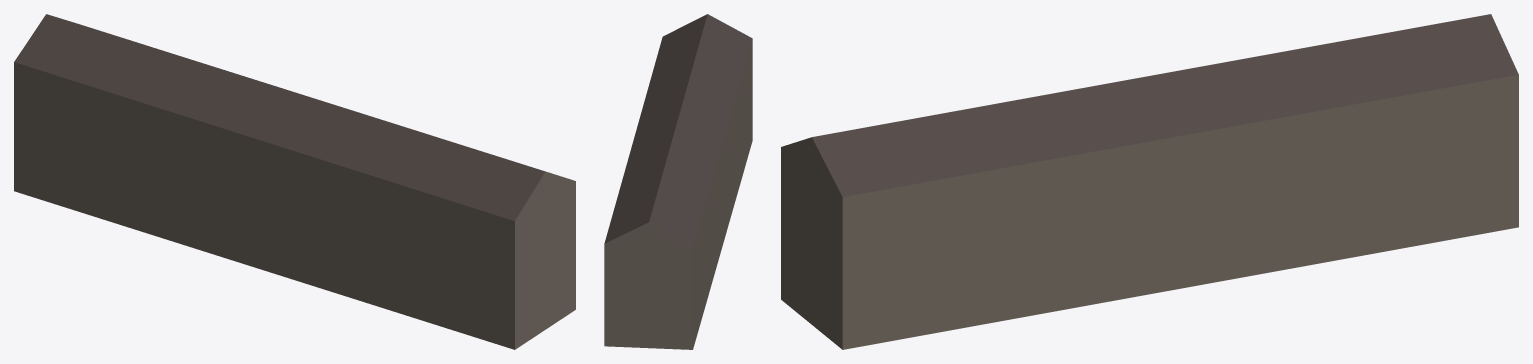
3 renders of one model, left to right at view 1: azimuth 30°, elevation 25°; view 2: azimuth 150°, elevation 25°; view 3: azimuth 270°, elevation 25°, orthographic. The views are drawn at different scales.
Visible parts, largest first — view 1: HP-w859086174; view 2: HP-w859086174; view 3: HP-w859086174.
Boxes of the visible parts, box(x1,y1,x2,y2) form: HP-w859086174: box(14, 14, 575, 349); HP-w859086174: box(604, 14, 752, 349); HP-w859086174: box(781, 14, 1518, 349).
Bounding box in the file's own units: 21.95 × 11.06 × 39.43.
